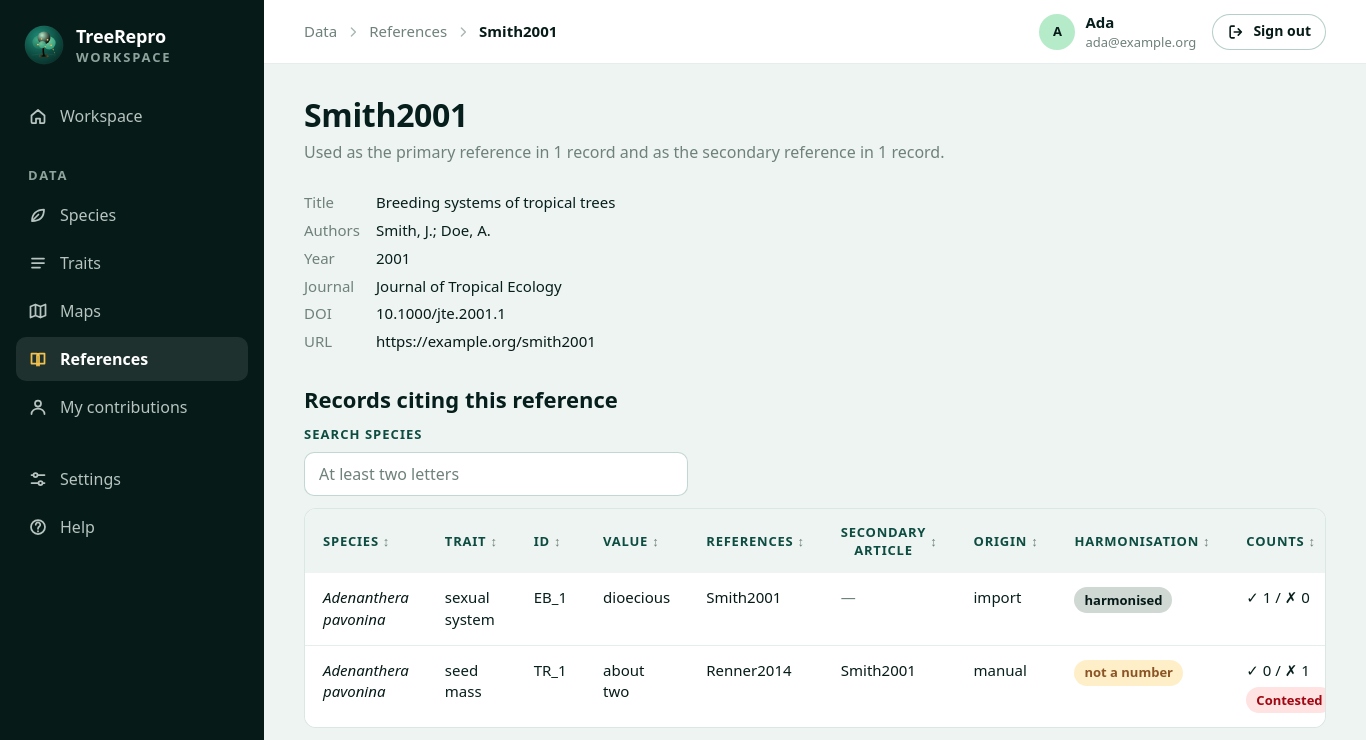
Test: RFC-63 R8, R9 ReferencePage records › RFC-65 R7 follows a harmonisation link inside the drawer to the linked record
Expected: the heading "Smith2001" is shown, [304, 93, 468, 136]
Step 1. Click the button "dioecious" → (637, 598), box [603, 587, 670, 609]
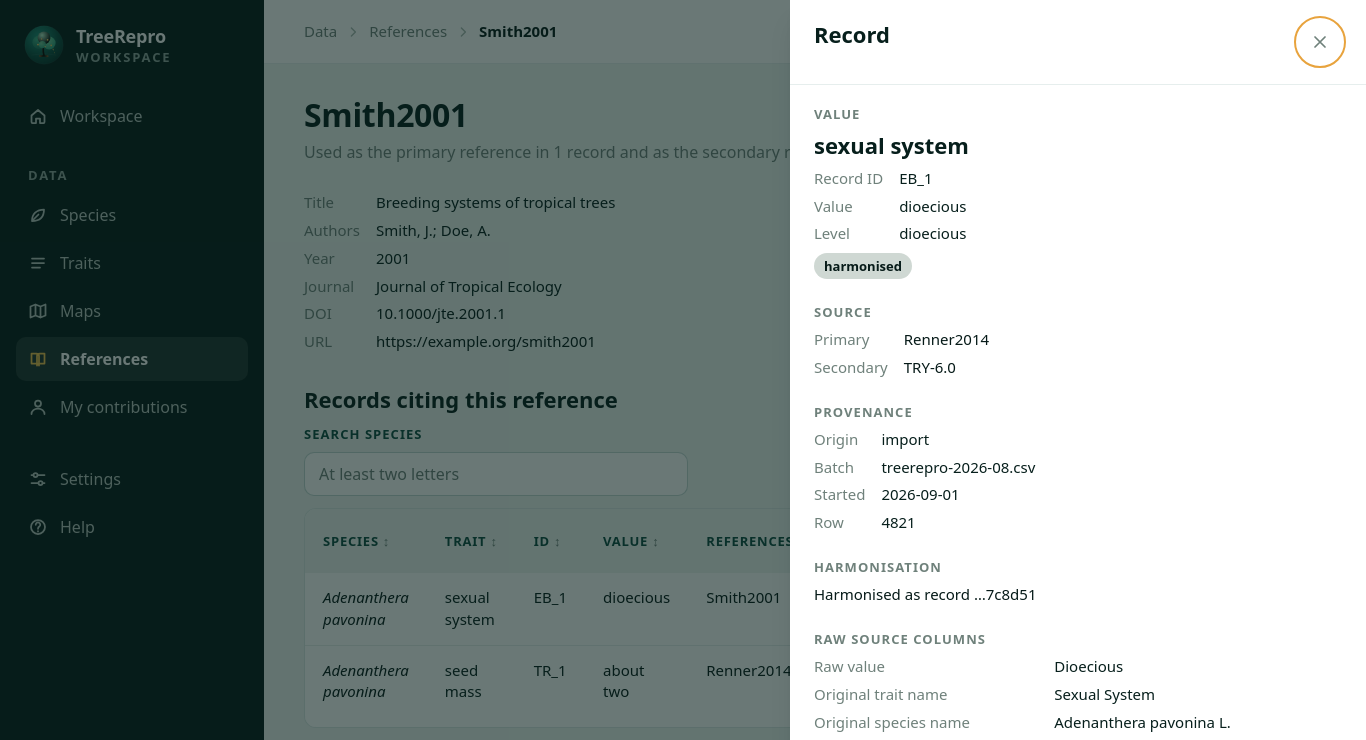
Step 2. Click the button "Harmonised as record …7c8d51" → (925, 594), box [814, 584, 1342, 606]
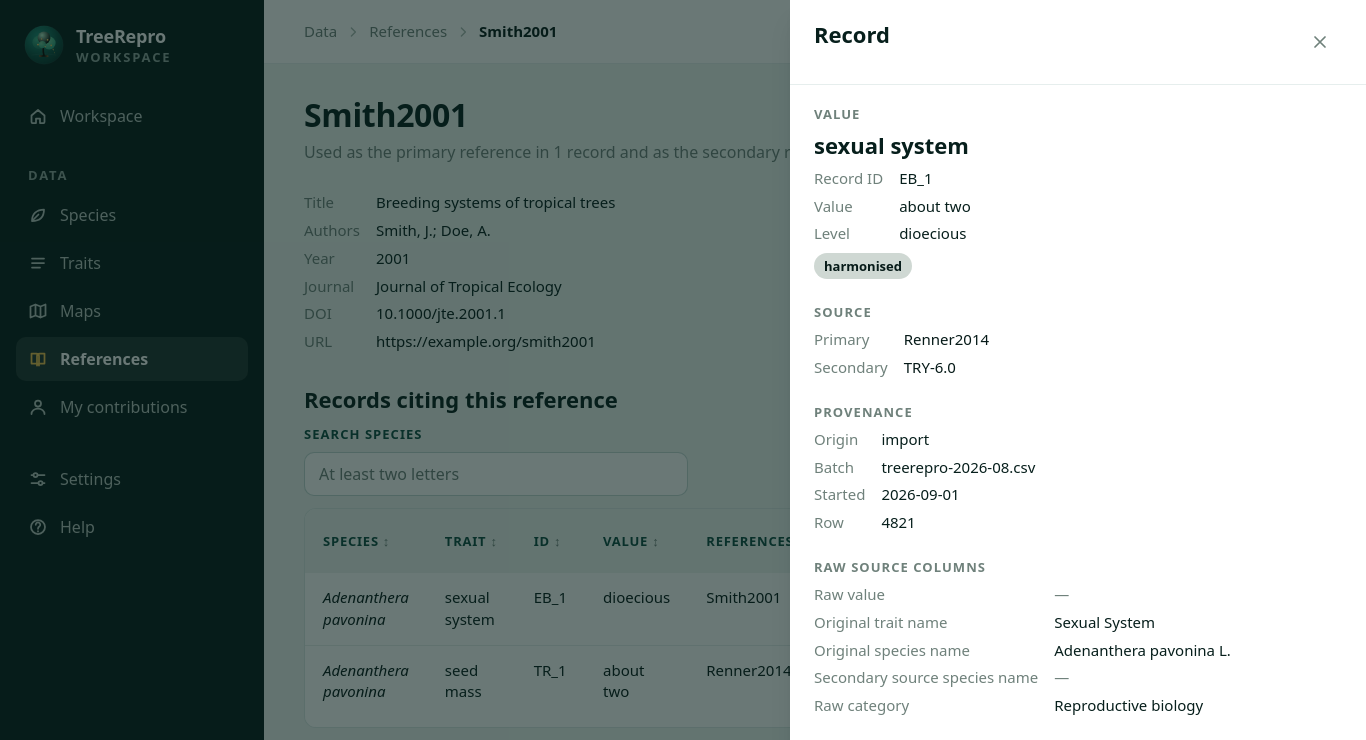
Expected: the text "about two" is shown, [899, 196, 971, 216]
